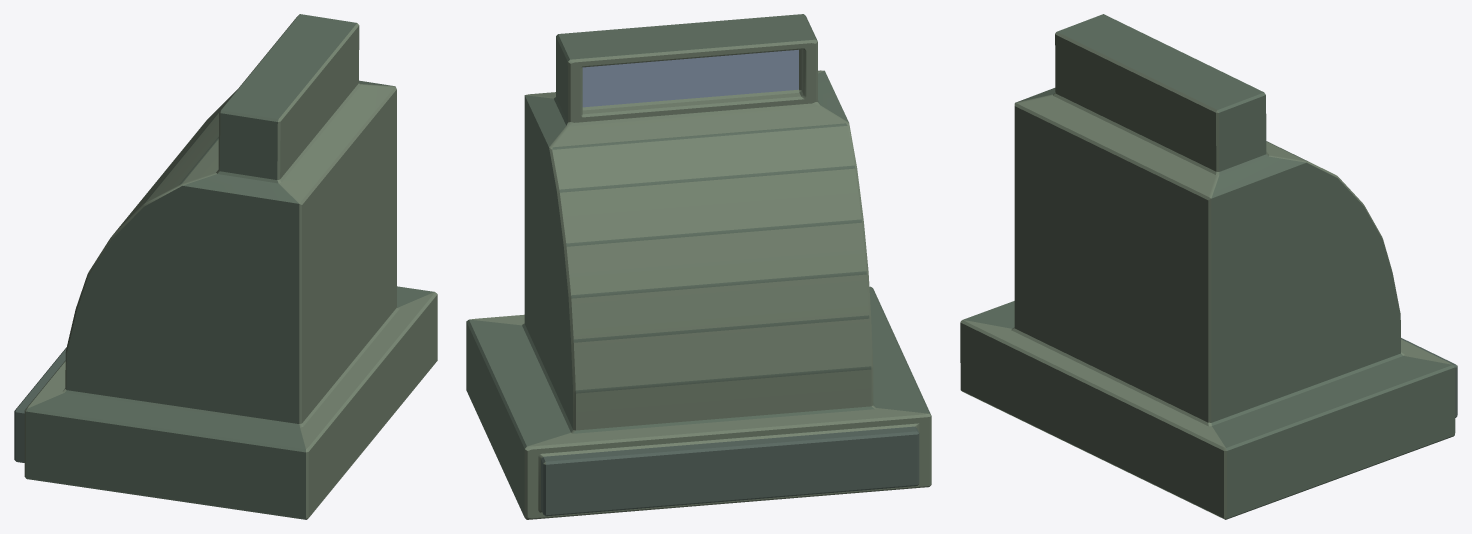
Rendered from register.fbx.
The picture shows the model from 3 angles, left to right: view 1: azimuth 30°, elevation 25°; view 2: azimuth 150°, elevation 25°; view 3: azimuth 270°, elevation 25°; orthographic projection. The views are drawn at different scales.
Parts seen in each view (by area): view 1: pCube20; view 2: pCube20; view 3: pCube20.
Part boxes in pixels (x1,y1,x2,y2): pCube20: (14,14,437,519); pCube20: (466,14,931,519); pCube20: (960,14,1457,519).
Size of the model in its own units: 1.94 by 1.56 by 1.91.
